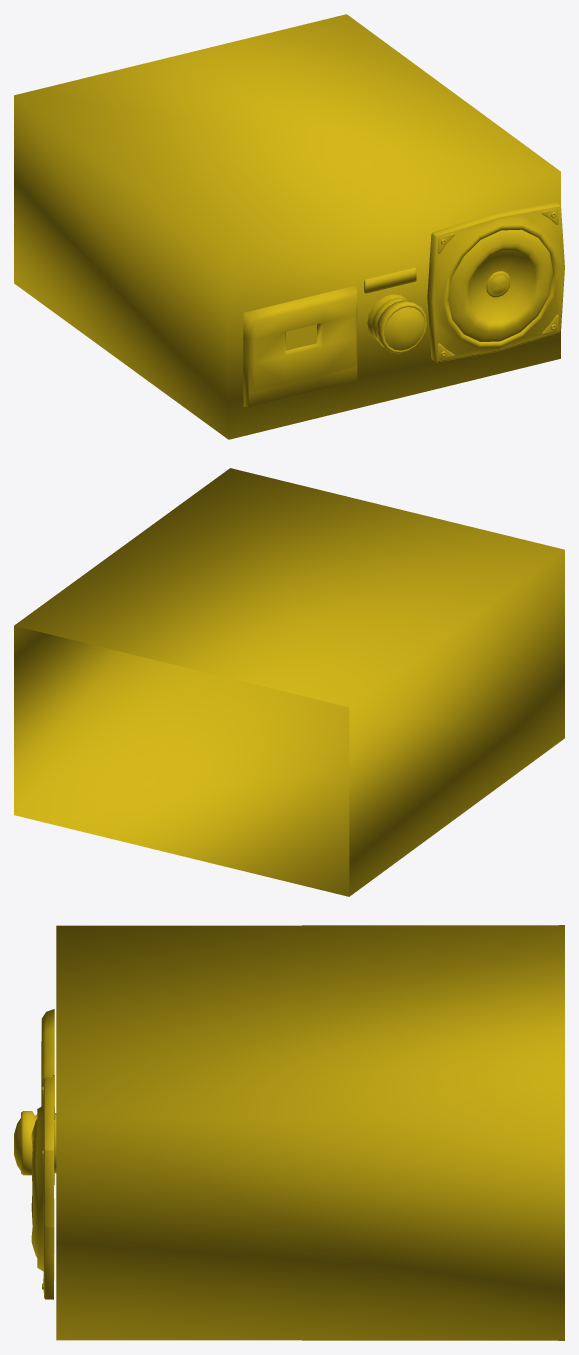
File: Audiobox_low.fbx
3 renders of one model, top to bottom at view 1: azimuth 30°, elevation 25°; view 2: azimuth 150°, elevation 25°; view 3: azimuth 270°, elevation 25°, orthographic. The views are drawn at different scales.
Visible parts, largest first — view 1: MAINBOX_low, DISPLAYBODY_low, AUDIO1_low, AUDIOBL_low, LIGHT_low, LIGHTBODY_low, POINT_low, AUDIO3_low, DIS_low; view 2: MAINBOX_low; view 3: MAINBOX_low, AUDIO1_low, DISPLAYBODY_low, LIGHTBODY_low, AUDIOBL_low.
Part boxes in pixels (<box>): MAINBOX_low: <box>14,14,560,439</box>; DISPLAYBODY_low: <box>243,285,357,406</box>; AUDIO1_low: <box>427,202,564,362</box>; AUDIOBL_low: <box>448,229,552,341</box>; LIGHT_low: <box>384,307,424,350</box>; LIGHTBODY_low: <box>367,294,426,353</box>; POINT_low: <box>364,267,416,293</box>; AUDIO3_low: <box>437,208,558,359</box>; DIS_low: <box>285,324,316,350</box>; MAINBOX_low: <box>14,468,564,896</box>; MAINBOX_low: <box>56,925,564,1340</box>; AUDIO1_low: <box>37,1077,54,1299</box>; DISPLAYBODY_low: <box>41,1009,54,1184</box>; LIGHTBODY_low: <box>21,1111,56,1175</box>; AUDIOBL_low: <box>31,1119,37,1257</box>.
Bounding box in the file's own units: 11759 × 6350 × 14216.
